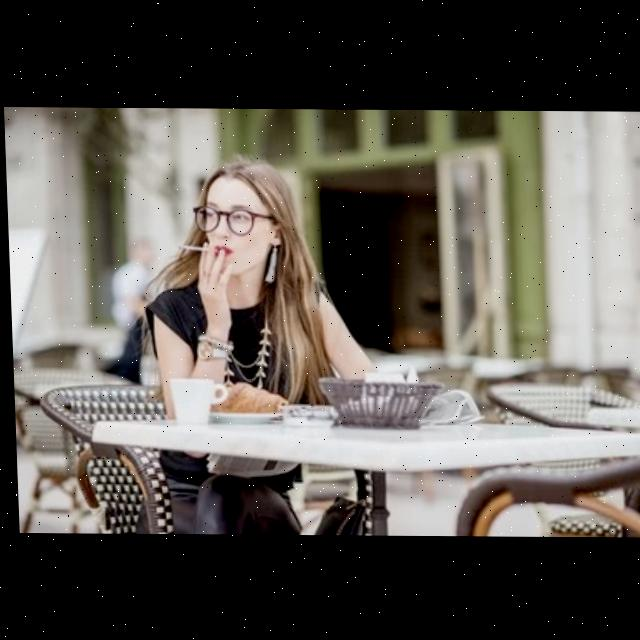cigarette: (176, 245, 216, 253)
